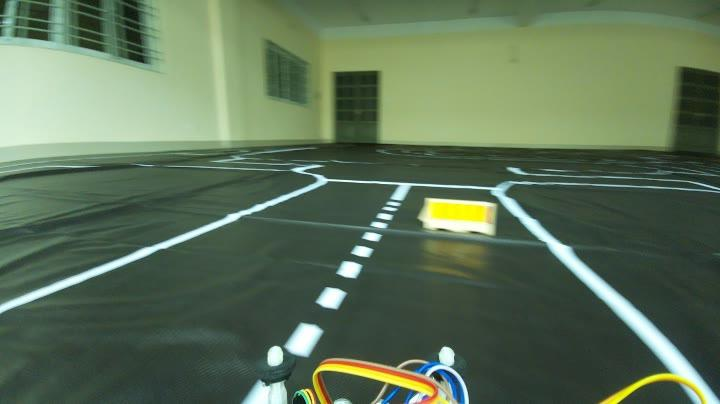roadblock: (412, 192, 512, 251)
